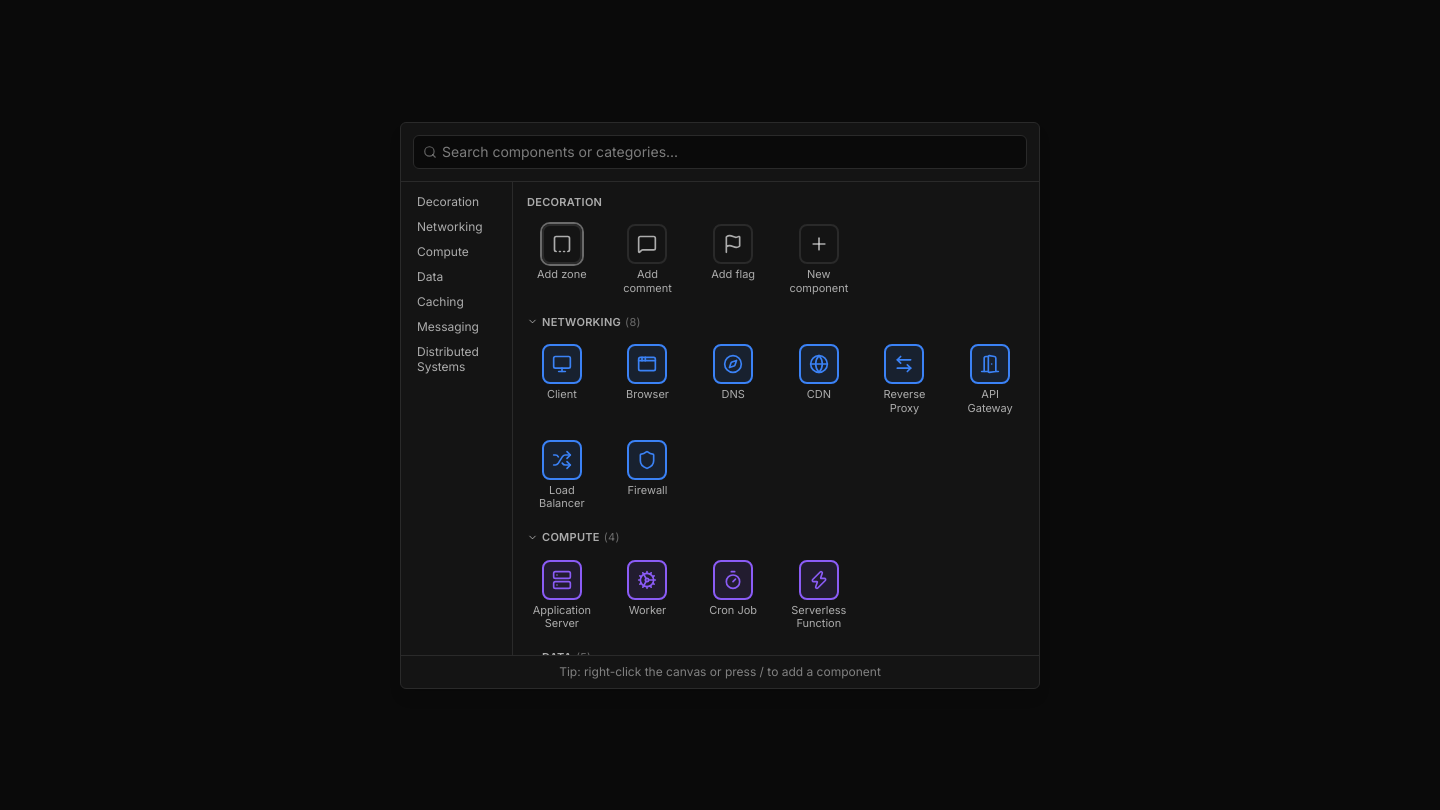
Test: ComponentPicker › saving a new custom component adds it to the registry list and closes both the modal and the picker
The image size is (1440, 810).
Click the option "New component" at (819, 259), box [789, 224, 848, 295]
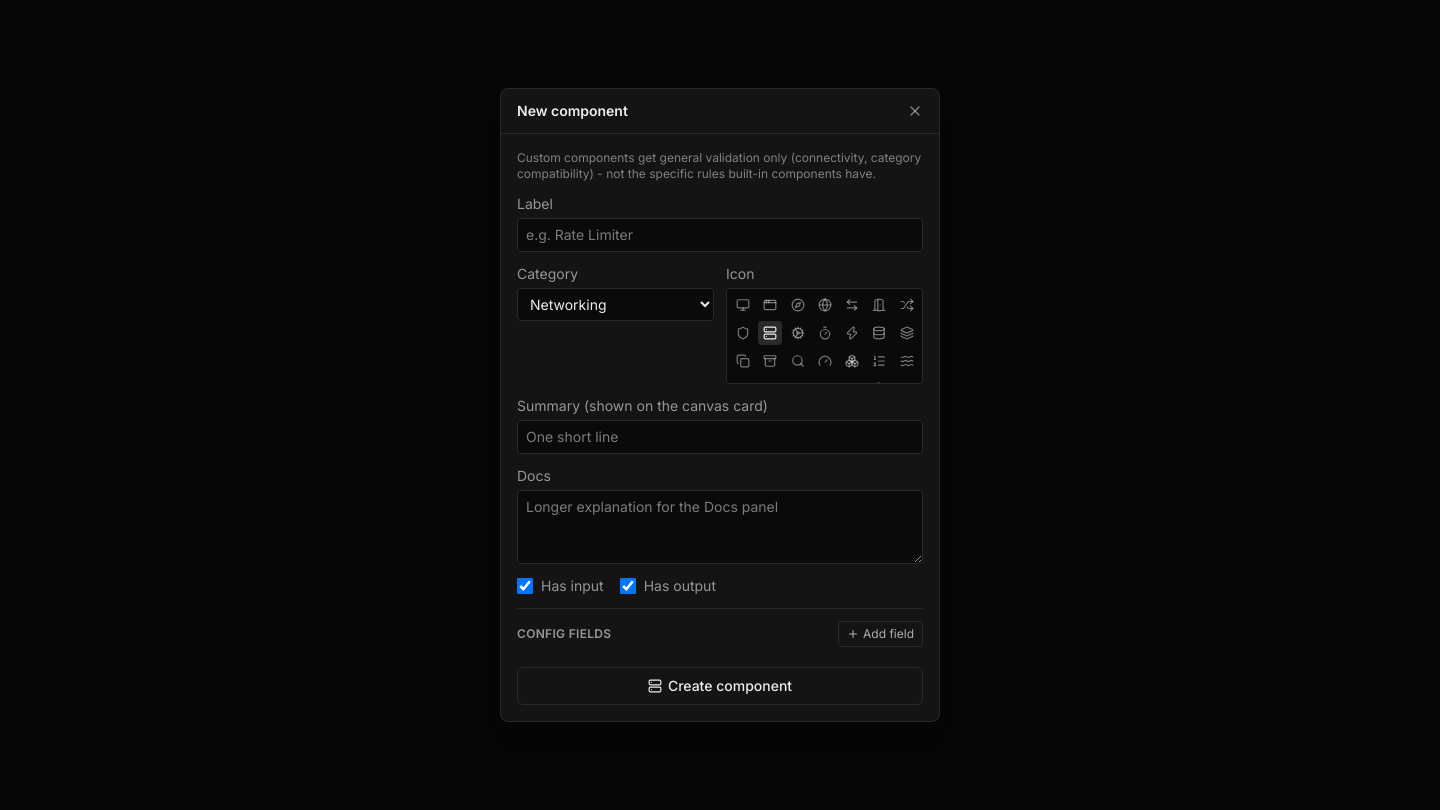
Type "Rate Limiter" into the field with placeholder "e.g. Rate Limiter" at (720, 235), box [517, 218, 923, 252]
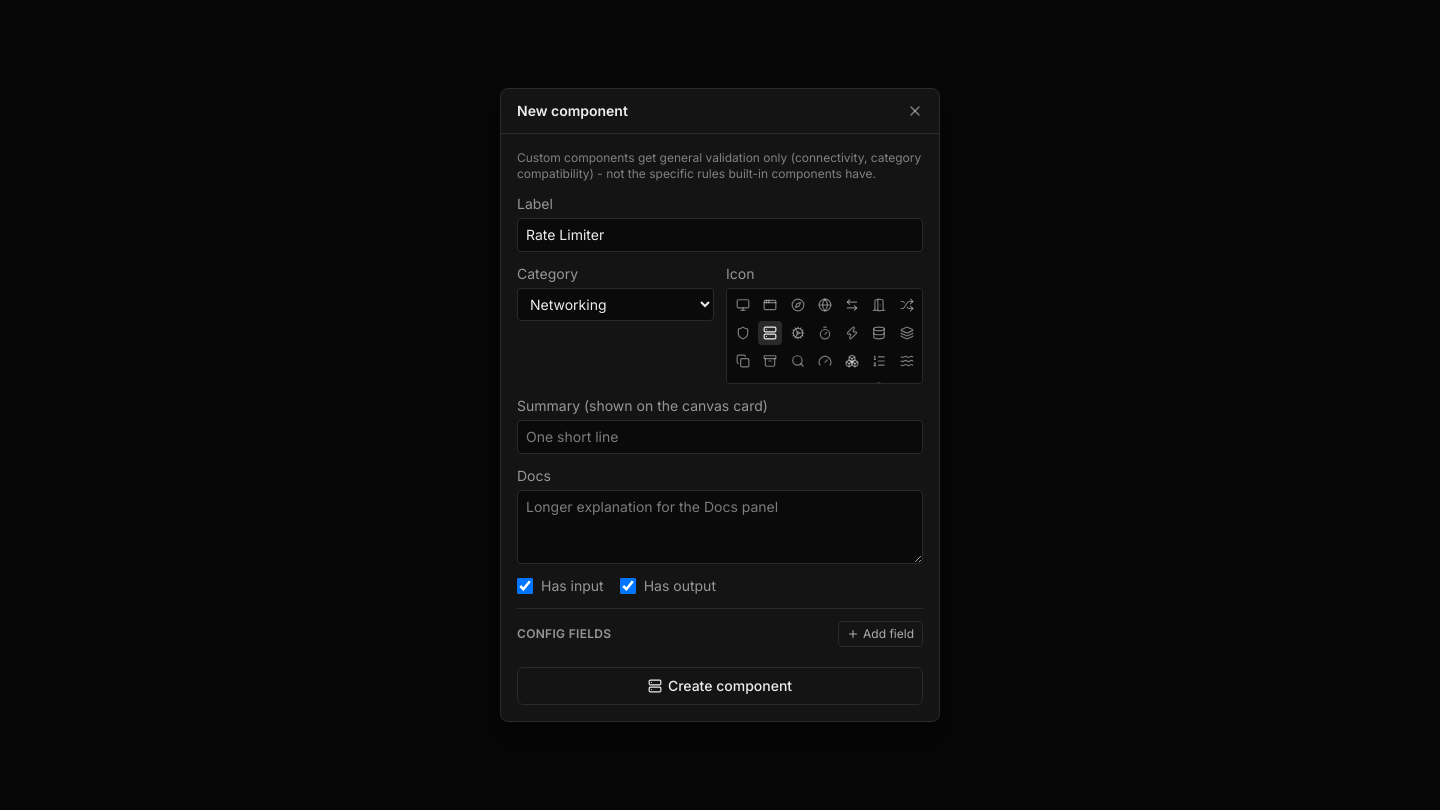
Click the button "Create component" at (720, 686), box [517, 667, 923, 705]
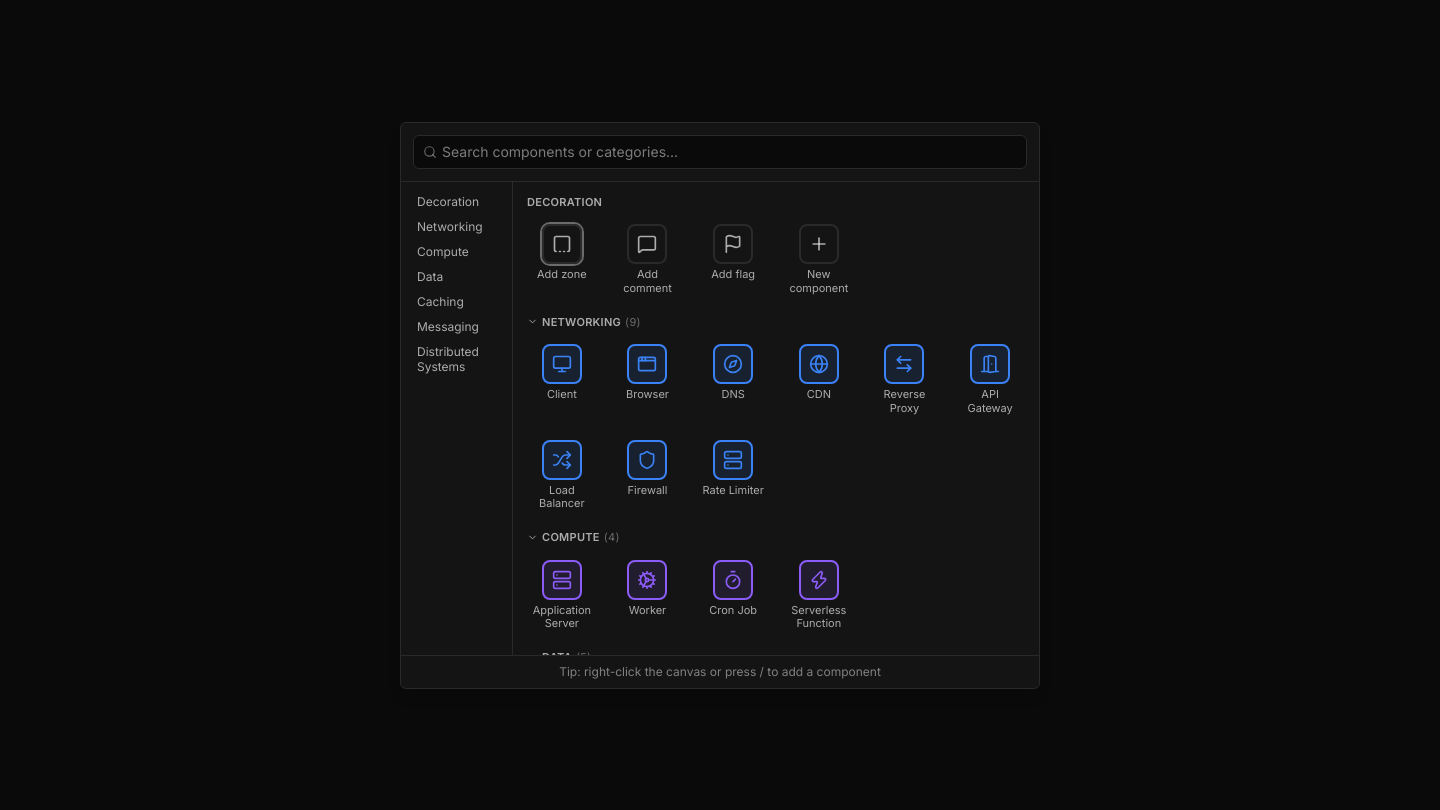
Expected: the field with placeholder "e.g. Rate Limiter" is not shown
Now the text "Rate Limiter" is shown, box [701, 484, 765, 497]
